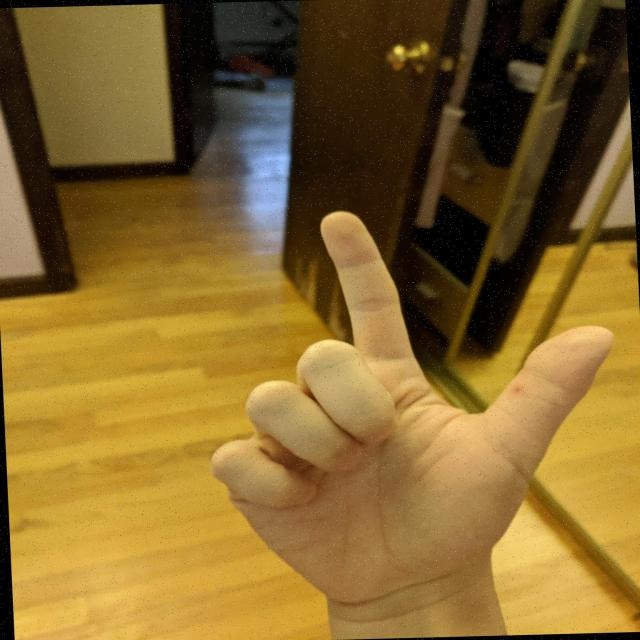L: (185, 197, 638, 599)
